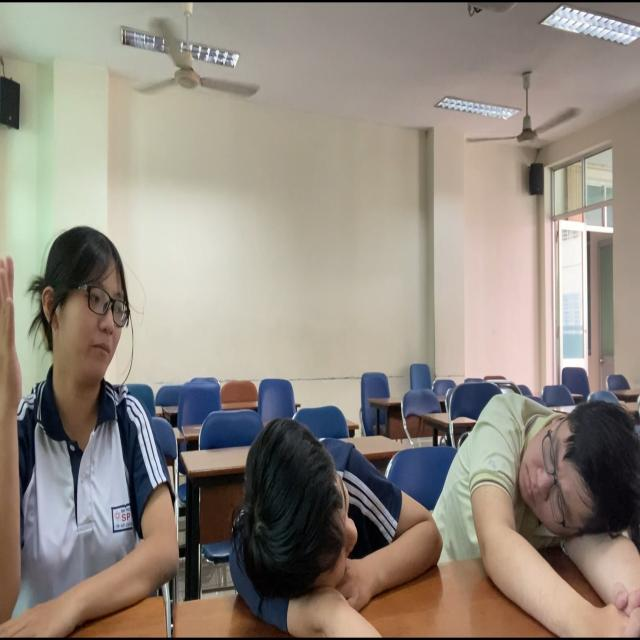raise_hand: (1, 217, 181, 640)
sleep: (215, 389, 450, 630), (444, 378, 640, 617)
